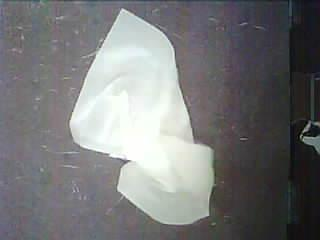paper: (71, 10, 214, 224)
